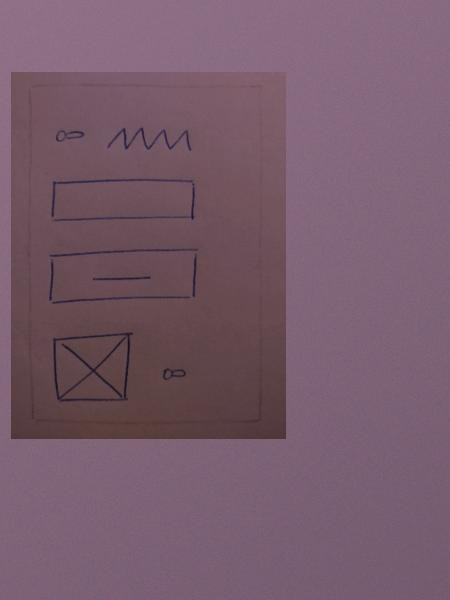button: (39, 244, 210, 307)
image: (45, 329, 140, 411)
switch: (50, 121, 88, 147), (158, 360, 192, 385)
text: (102, 119, 198, 157)
text_input: (46, 174, 203, 225)
